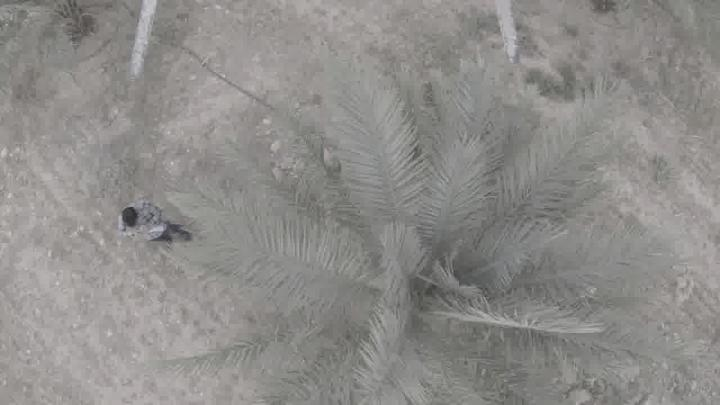Date-Palm-Crown: (300, 140, 538, 404)
